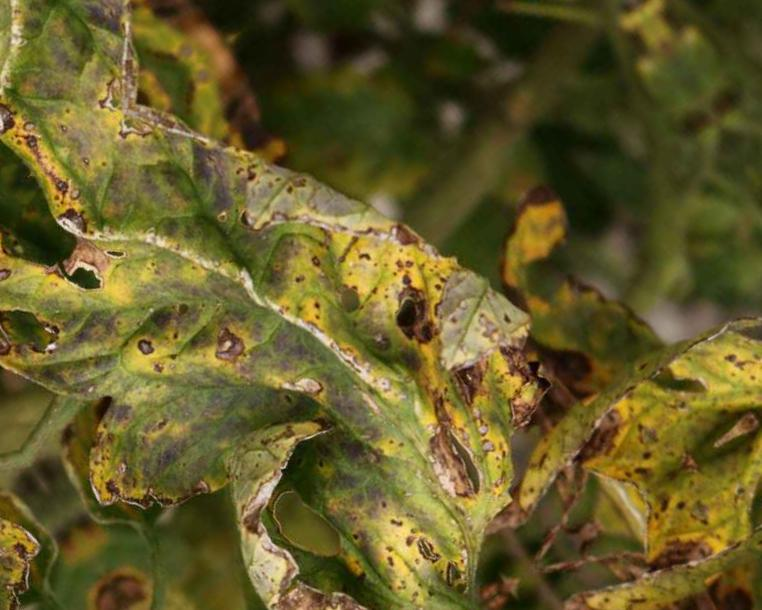Tomato Septoria leaf spot: (0, 0, 652, 610), (515, 247, 762, 538)
